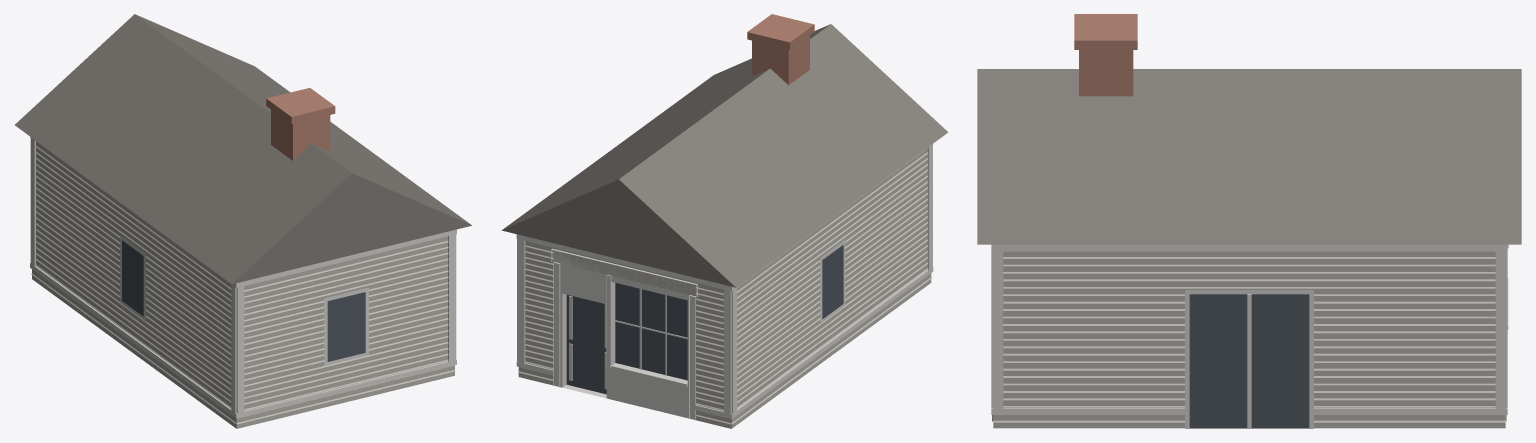
Rendered from recon_1835_west_007__inferred_1835.glb.
The picture shows the model from 3 angles, left to right: view 1: azimuth 30°, elevation 25°; view 2: azimuth 150°, elevation 25°; view 3: azimuth 270°, elevation 25°; orthographic projection. The views are drawn at different scales.
Parts seen in each view (by area): view 1: recon_1835_west_007__inferred_1835; view 2: recon_1835_west_007__inferred_1835; view 3: recon_1835_west_007__inferred_1835.
Part boxes in pixels (x1,y1,x2,y2): recon_1835_west_007__inferred_1835: (15, 14, 471, 428); recon_1835_west_007__inferred_1835: (501, 14, 948, 428); recon_1835_west_007__inferred_1835: (977, 14, 1521, 428).
Size of the model in its own units: 5.38 by 5.71 by 8.43.
